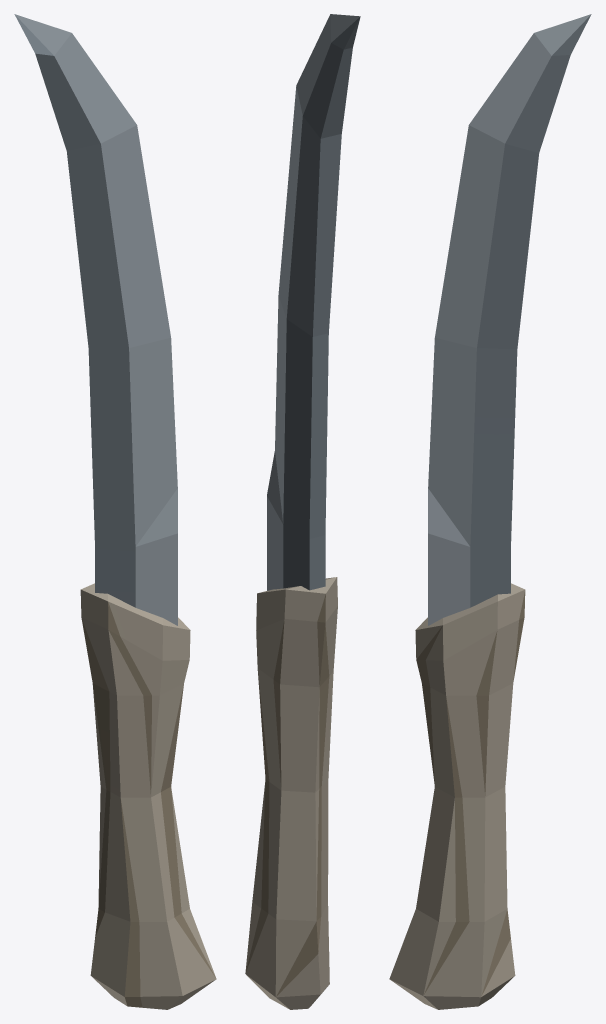
Rendered from kingdom_SM_Wep_Knife_04.gltf.
The picture shows the model from 3 angles, left to right: view 1: azimuth 90°, elevation 25°; view 2: azimuth 210°, elevation 25°; view 3: azimuth 270°, elevation 25°; orthographic projection. The views are drawn at different scales.
Visible parts, largest first — view 1: SM_Wep_Knife_04; view 2: SM_Wep_Knife_04; view 3: SM_Wep_Knife_04.
Part boxes in pixels (bbox=[...]): SM_Wep_Knife_04: bbox=[14, 14, 216, 1009]; SM_Wep_Knife_04: bbox=[245, 14, 360, 1009]; SM_Wep_Knife_04: bbox=[389, 14, 591, 1009].
Size of the model in its own units: 0.0386 by 0.6762 by 0.1251.
1 material, 1 textured.
